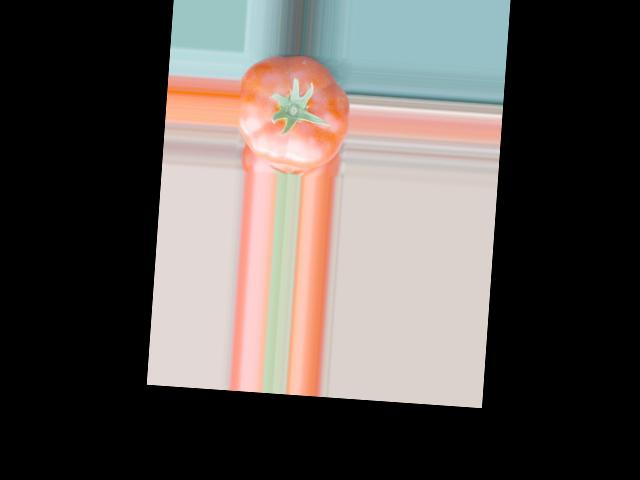tomato: (235, 52, 354, 171)
